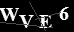6: (58, 6, 70, 21)
E: (38, 14, 53, 29)
V: (18, 14, 34, 28)
W: (1, 7, 20, 22)
